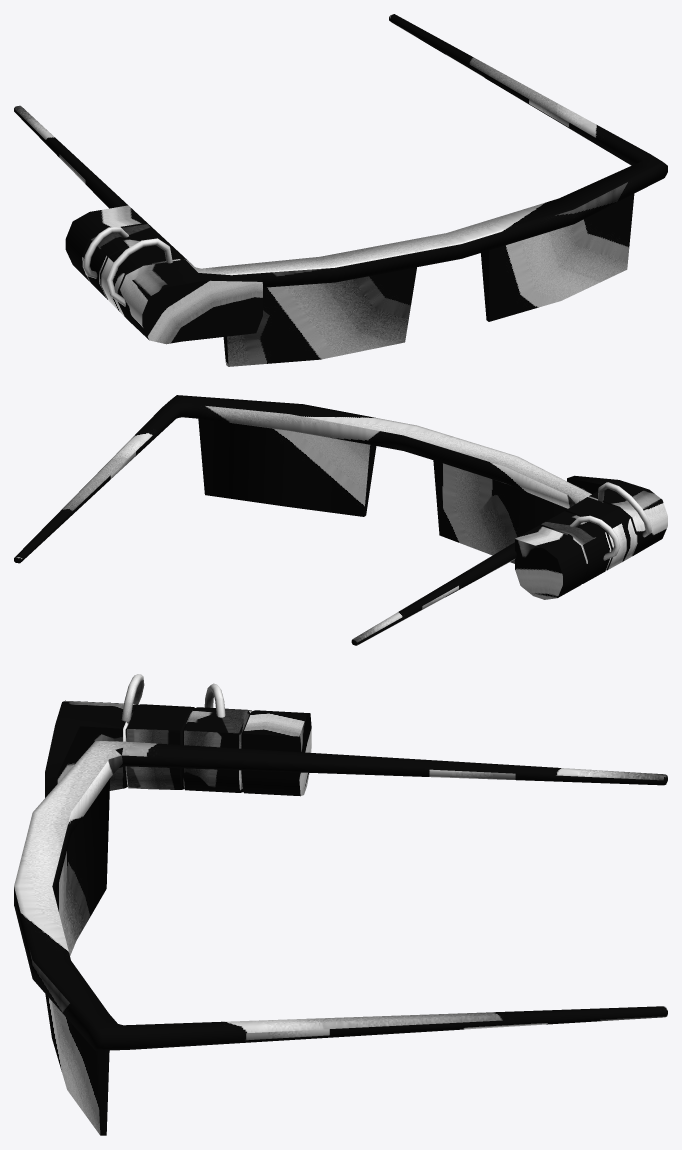
Rendered from glasses.obj.
3 renders of one model, top to bottom at view 1: azimuth 30°, elevation 25°; view 2: azimuth 150°, elevation 25°; view 3: azimuth 270°, elevation 25°, orthographic. The views are drawn at different scales.
Parts seen in each view (by area): view 1: Glasses_Base_Plane.001, Glasses_Box_Plane, Glasses_Wire1_CUBezierCurve.001, Glasses_Wire2_CUBezierCurve; view 2: Glasses_Base_Plane.001, Glasses_Box_Plane, Glasses_Wire1_CUBezierCurve.001, Glasses_Wire2_CUBezierCurve; view 3: Glasses_Base_Plane.001, Glasses_Box_Plane.
Boxes of the visible parts, box(x1,y1,x2,y2) form: Glasses_Base_Plane.001: box(14, 14, 667, 366); Glasses_Box_Plane: box(65, 205, 262, 344); Glasses_Wire1_CUBezierCurve.001: box(106, 238, 172, 306); Glasses_Wire2_CUBezierCurve: box(83, 227, 128, 278); Glasses_Base_Plane.001: box(14, 395, 591, 645); Glasses_Box_Plane: box(515, 475, 667, 599); Glasses_Wire1_CUBezierCurve.001: box(598, 482, 651, 537); Glasses_Wire2_CUBezierCurve: box(570, 515, 620, 560); Glasses_Base_Plane.001: box(14, 741, 667, 1135); Glasses_Box_Plane: box(45, 700, 311, 797).
Bounding box in the file's own units: 2.88 × 0.683 × 2.35.
Materials: 5 (5 with a texture image).
